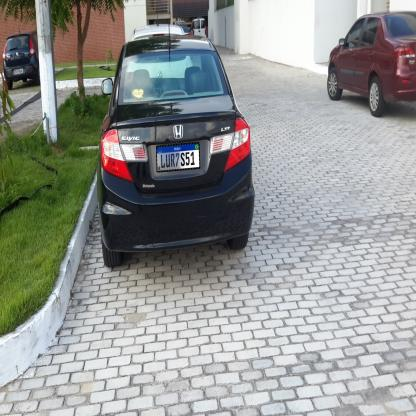PlacaM: (156, 142, 200, 172)
